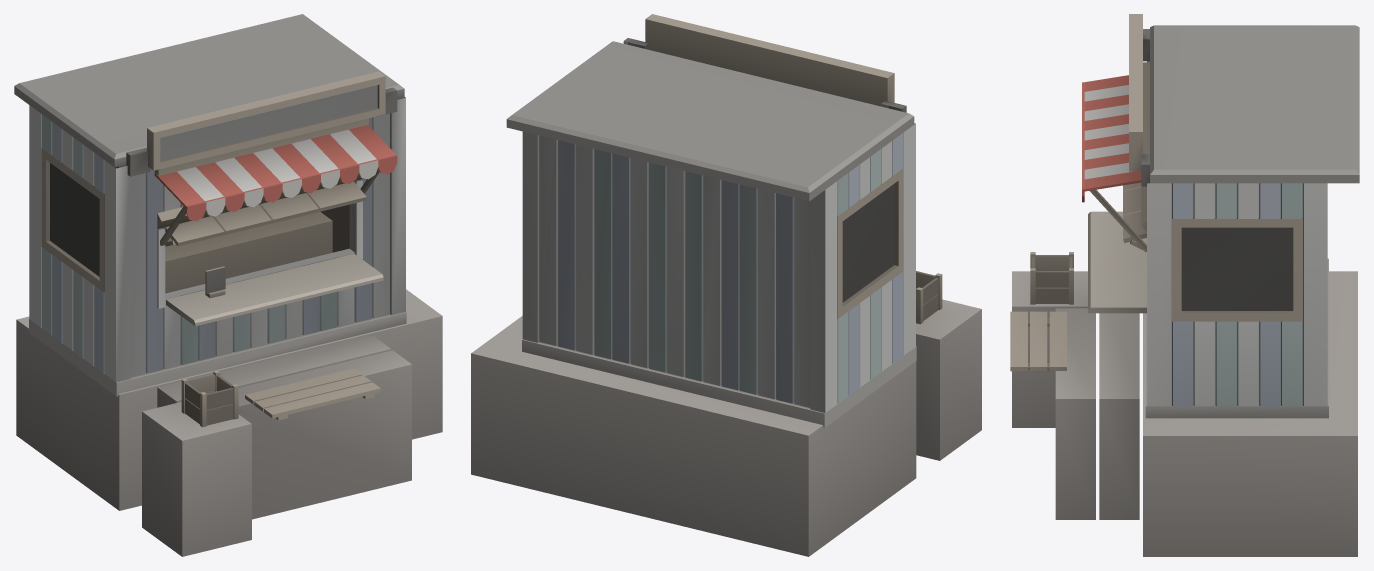
Rendered from kiosk.glb.
3 views of the same model, side by side, from view 1: azimuth 30°, elevation 25°; view 2: azimuth 150°, elevation 25°; view 3: azimuth 270°, elevation 25° (orthographic). The views are drawn at different scales.
Parts seen in each view (by area): view 1: kiosk; view 2: kiosk; view 3: kiosk.
Part boxes in pixels (x1=…): kiosk: x1=14, y1=14, x2=442, y2=556; kiosk: x1=471, y1=14, x2=981, y2=556; kiosk: x1=1010, y1=14, x2=1359, y2=556.
Bounding box in the file's own units: 4.48 × 4.96 × 4.
